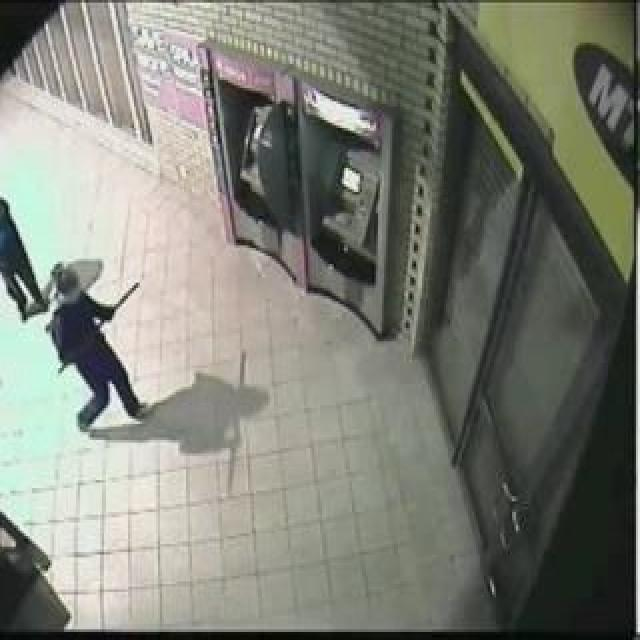thief: (52, 261, 106, 371)
